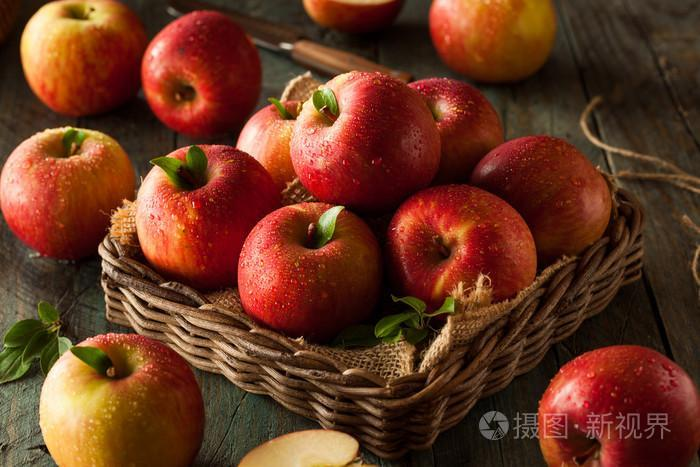apple: (271, 72, 436, 215), (35, 333, 205, 466), (138, 143, 283, 291), (236, 202, 380, 342), (382, 183, 538, 312), (534, 347, 698, 467), (467, 133, 613, 263), (1, 124, 139, 259), (138, 8, 263, 138), (18, 1, 149, 117), (428, 1, 558, 84), (405, 75, 503, 179)
